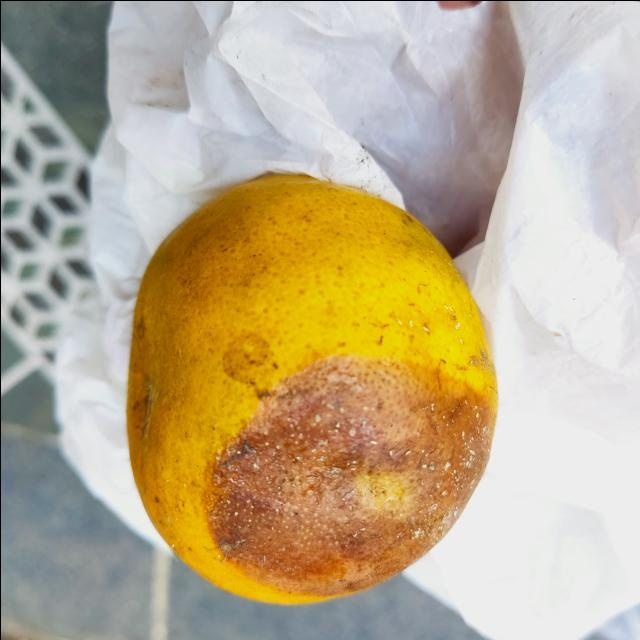agrume: (122, 173, 498, 605)
